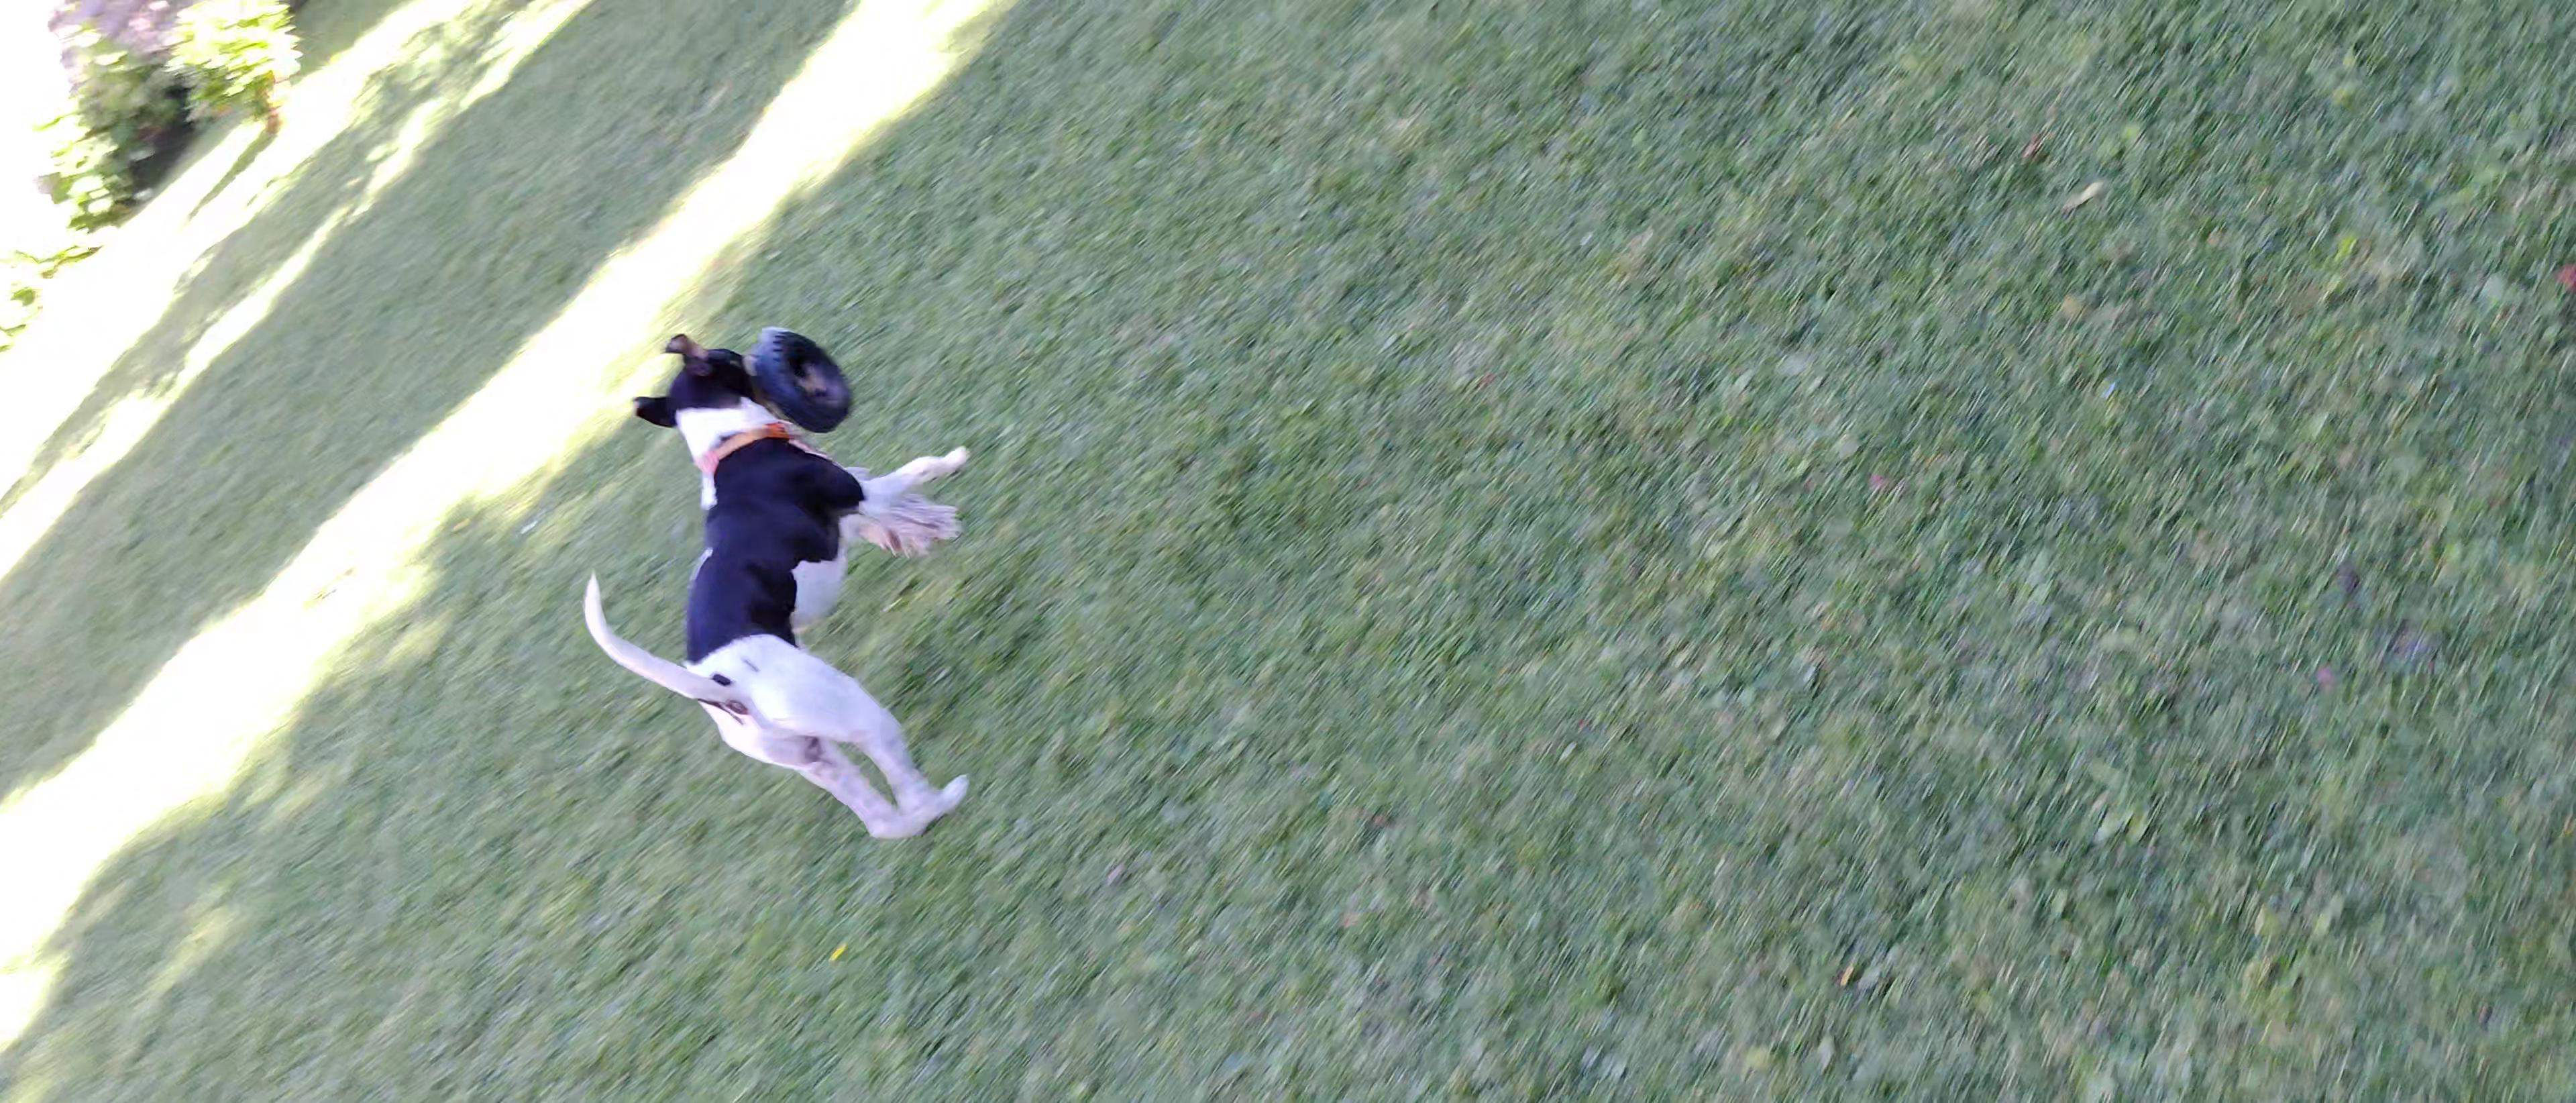Dog: (565, 311, 982, 845)
